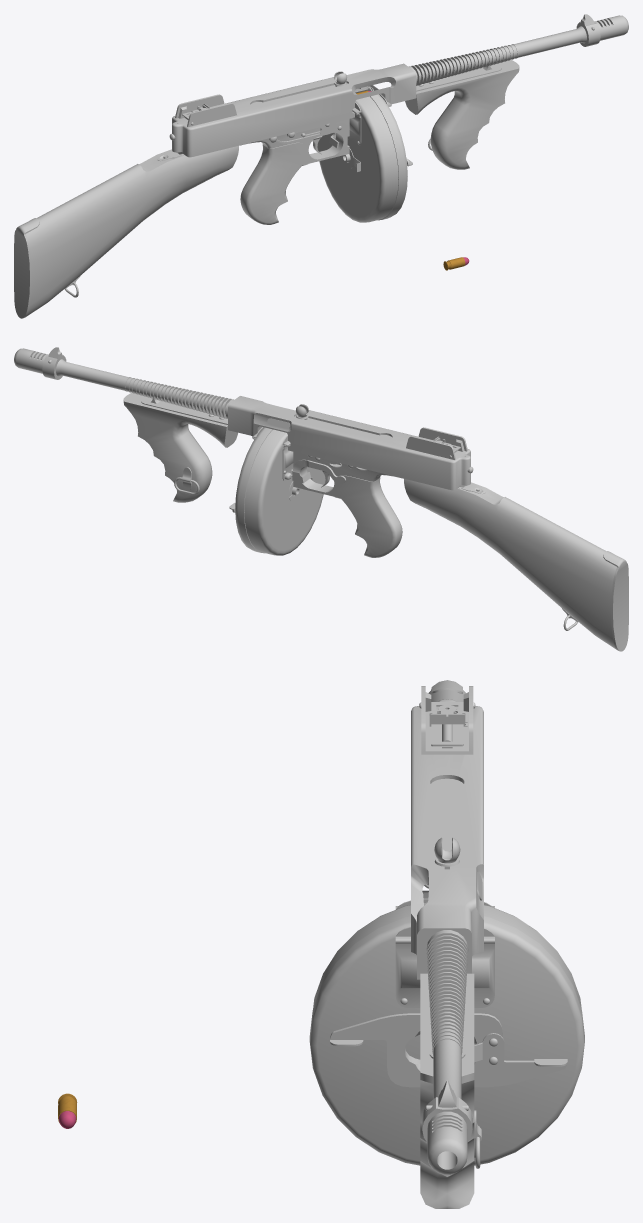
3 renders of one model, top to bottom at view 1: azimuth 30°, elevation 25°; view 2: azimuth 150°, elevation 25°; view 3: azimuth 270°, elevation 25°, orthographic. The views are drawn at different scales.
Parts seen in each view (by area): view 1: stock_low_Material #26_0, base_low_Material #26_0, magB_low_Material #31_0, gripF_low_Material #26_0, barrel_low_Material #26_0, gripB_low_Material #26_0, stockPlate_low_Material #26_0, magF_low_Material #31_0, sightBase_low_Material #26_0, magBackPlate_low_Material #31_0; view 2: stock_low_Material #26_0, base_low_Material #26_0, magB_low_Material #31_0, gripF_low_Material #26_0, barrel_low_Material #26_0, gripB_low_Material #26_0, stockPlate_low_Material #26_0, magF_low_Material #31_0, sightBase_low_Material #26_0, triggerPlate2_low; view 3: magF_low_Material #31_0, base_low_Material #26_0, barrel_low_Material #26_0, magOpen_low, gripF_low_Material #26_0, magFrontPlate_low_Material #31_0, magB_low_Material #31_0, sightBase_low_Material #26_0, magPart1_low_Material #31_0.
Part boxes in pixels (left/top/right/bottom): stock_low_Material #26_0: left=26, top=146, right=238, bottom=316; base_low_Material #26_0: left=172, top=63, right=501, bottom=163; magB_low_Material #31_0: left=317, top=88, right=398, bottom=222; gripF_low_Material #26_0: left=405, top=60, right=519, bottom=169; barrel_low_Material #26_0: left=408, top=15, right=628, bottom=85; gripB_low_Material #26_0: left=240, top=142, right=308, bottom=224; stockPlate_low_Material #26_0: left=14, top=218, right=39, bottom=318; magF_low_Material #31_0: left=355, top=86, right=407, bottom=220; sightBase_low_Material #26_0: left=175, top=94, right=236, bottom=126; magBackPlate_low_Material #31_0: left=347, top=102, right=361, bottom=145; stock_low_Material #26_0: left=404, top=479, right=616, bottom=649; base_low_Material #26_0: left=141, top=396, right=470, bottom=496; magB_low_Material #31_0: left=244, top=429, right=325, bottom=555; gripF_low_Material #26_0: left=123, top=393, right=237, bottom=502; barrel_low_Material #26_0: left=14, top=348, right=233, bottom=418; gripB_low_Material #26_0: left=334, top=475, right=402, bottom=557; stockPlate_low_Material #26_0: left=603, top=551, right=628, bottom=651; magF_low_Material #31_0: left=235, top=427, right=272, bottom=553; sightBase_low_Material #26_0: left=406, top=427, right=467, bottom=459; triggerPlate2_low: left=292, top=459, right=345, bottom=483; magF_low_Material #31_0: left=309, top=916, right=584, bottom=1165; base_low_Material #26_0: left=411, top=699, right=483, bottom=1058; barrel_low_Material #26_0: left=422, top=930, right=472, bottom=1174; magOpen_low: left=330, top=1013, right=567, bottom=1087; gripF_low_Material #26_0: left=420, top=973, right=474, bottom=1208; magFrontPlate_low_Material #31_0: left=395, top=926, right=494, bottom=1007; magB_low_Material #31_0: left=313, top=902, right=581, bottom=1008; sightBase_low_Material #26_0: left=421, top=686, right=473, bottom=754; magPart1_low_Material #31_0: left=474, top=1033, right=504, bottom=1068.
Bounding box in the file's own units: 0.8463 × 0.2252 × 0.3186.
